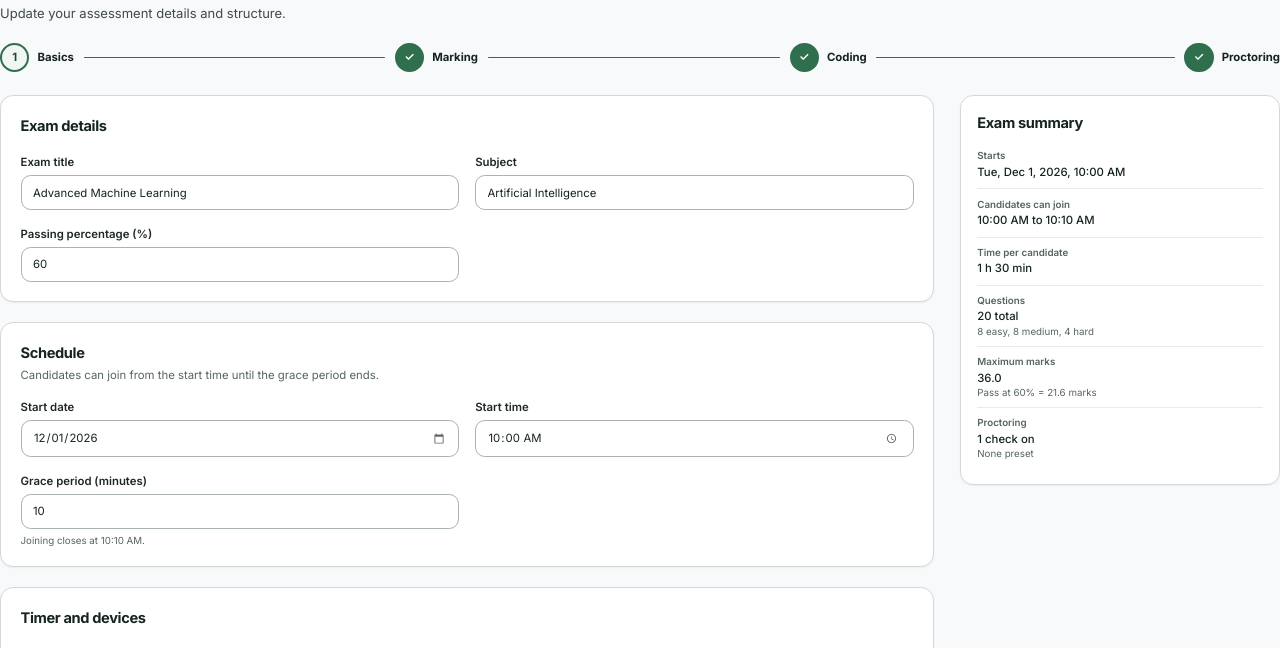
Test: Screen Capture Protection & Browser Restrictions Verification › 3. Host Portal Screen Capture & Browser Restriction Settings › reveals sub-toggles when Screen Capture Protection parent is enabled
This screenshot has width=1280, height=648.
Check: the field showing "Advanced Machine Learning" is shown, box 20,175 -> 459,210
// Navigate to Step 4
Click the button "✓ Proctoring". click: x=1232, y=57
box: 1184,43 -> 1279,72
(page scrolled)
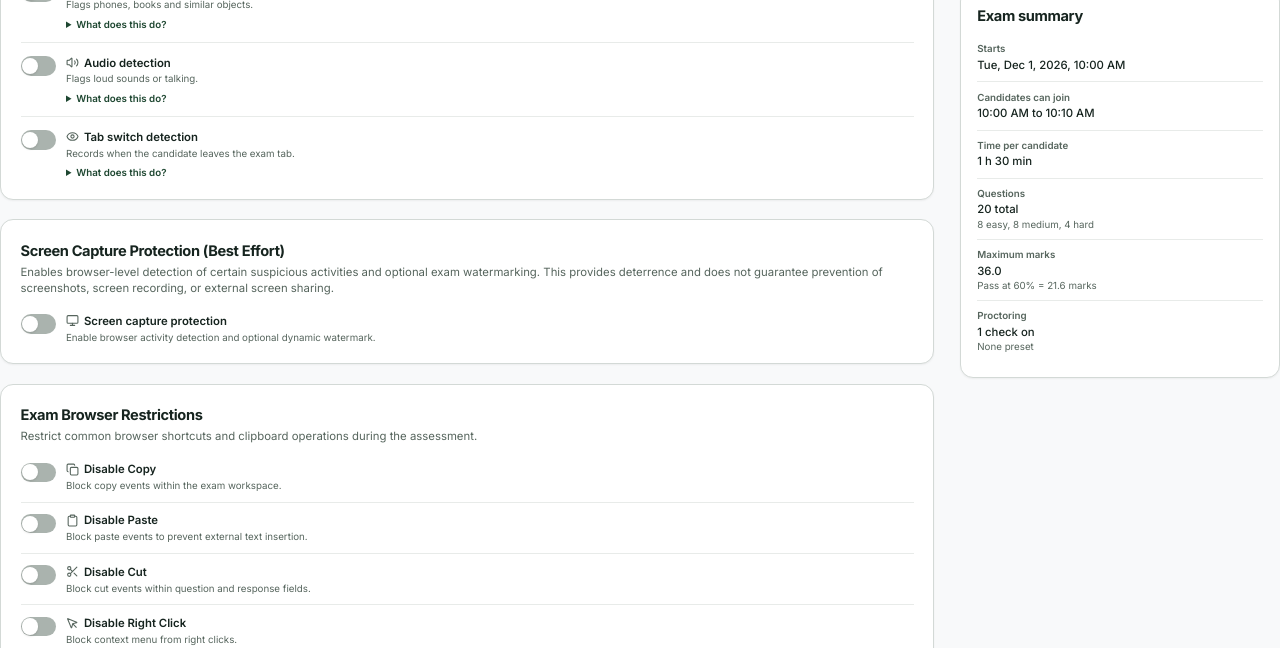
Check: the field labelled "Detect browser activity" is not shown
Check: the checkbox labelled "Screen capture protection" is not checked
// Turn on Screen capture protection
Click the checkbox labelled "Screen capture protection". click: x=198, y=328
box: 20,314 -> 376,342
(page scrolled)
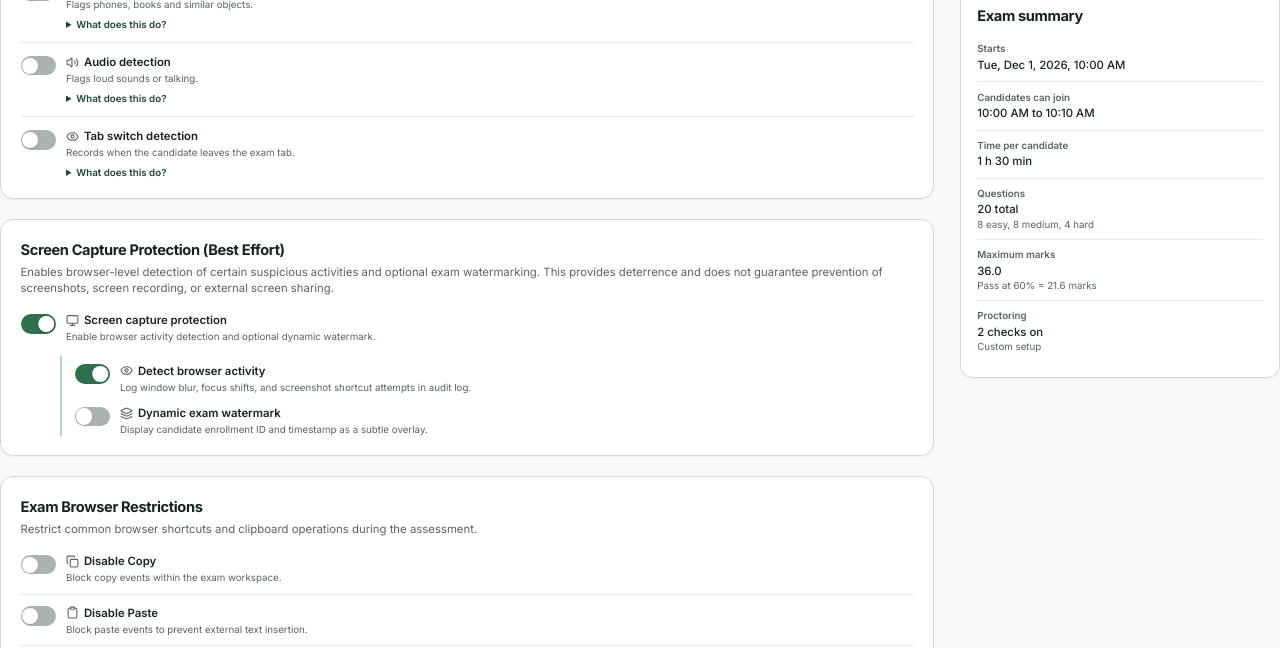
Check: the checkbox labelled "Screen capture protection" is checked, box 20,313 -> 376,342
Check: the checkbox labelled "Detect browser activity" is shown, box 74,364 -> 471,393
Check: the checkbox labelled "Dynamic exam watermark" is shown, box 74,406 -> 428,435
